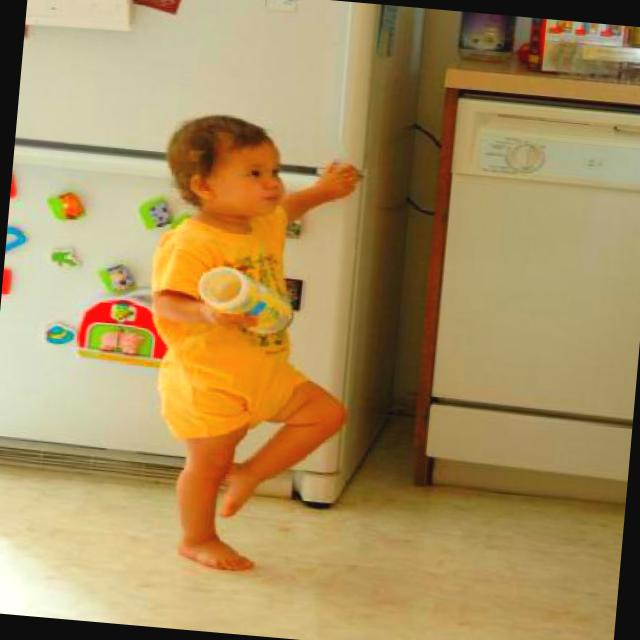Person: (125, 110, 373, 578)
